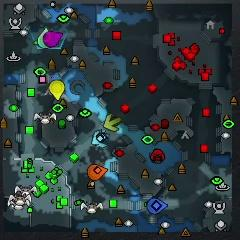p1: (146, 198, 169, 214)
p2: (37, 26, 53, 47)
p3: (45, 31, 62, 48)
p4: (49, 80, 65, 102)
p5: (86, 163, 108, 180)
x2: (103, 113, 121, 132)
x3: (91, 131, 107, 148)
